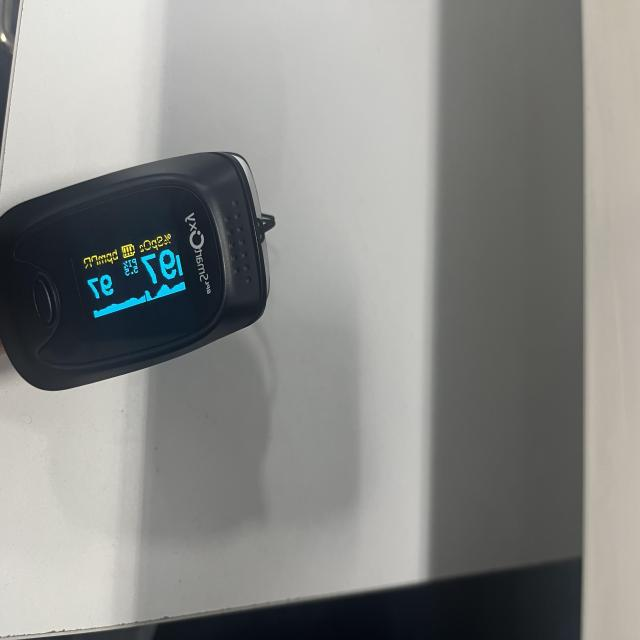spo2: (0, 152, 274, 393)
